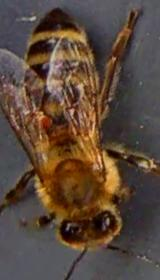varroa_mite: (34, 109, 54, 128)
